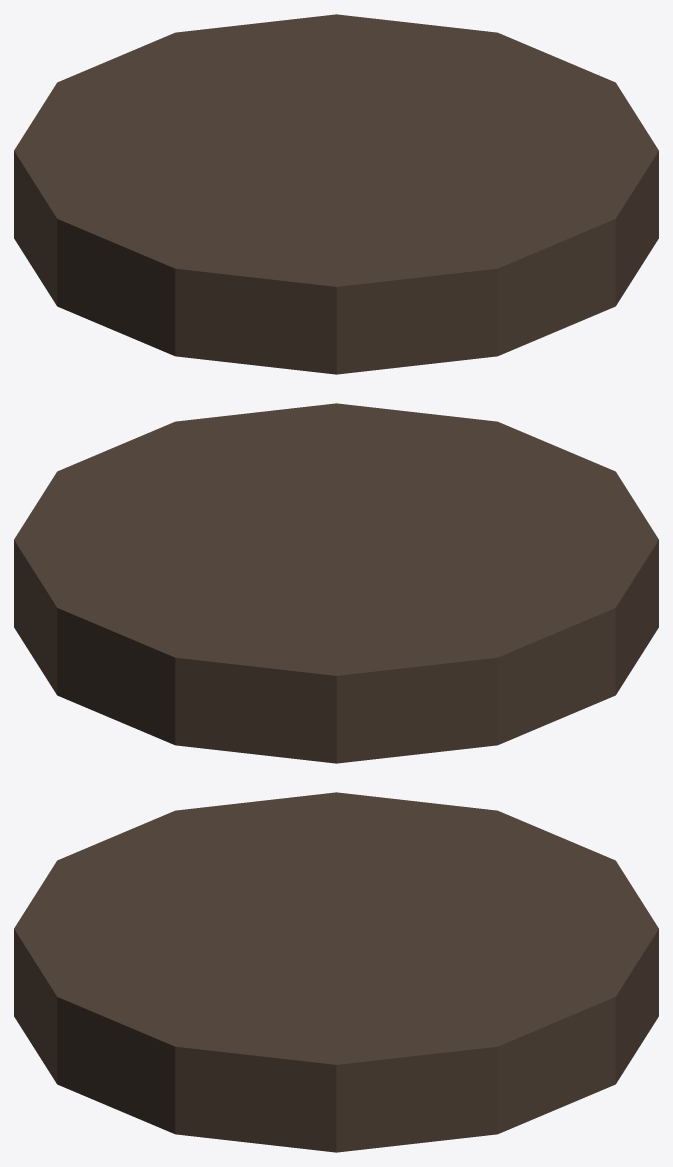
File: Empty Token Mesh.fbx
The picture shows the model from 3 angles, top to bottom: view 1: azimuth 30°, elevation 25°; view 2: azimuth 150°, elevation 25°; view 3: azimuth 270°, elevation 25°; orthographic projection.
Parts seen in each view (by area): view 1: Empty; view 2: Empty; view 3: Empty.
Part boxes in pixels (left/top/right/bottom): Empty: left=14, top=14, right=658, bottom=374; Empty: left=14, top=403, right=658, bottom=763; Empty: left=14, top=792, right=658, bottom=1152.
Bounding box in the file's own units: 100 × 15 × 100.
